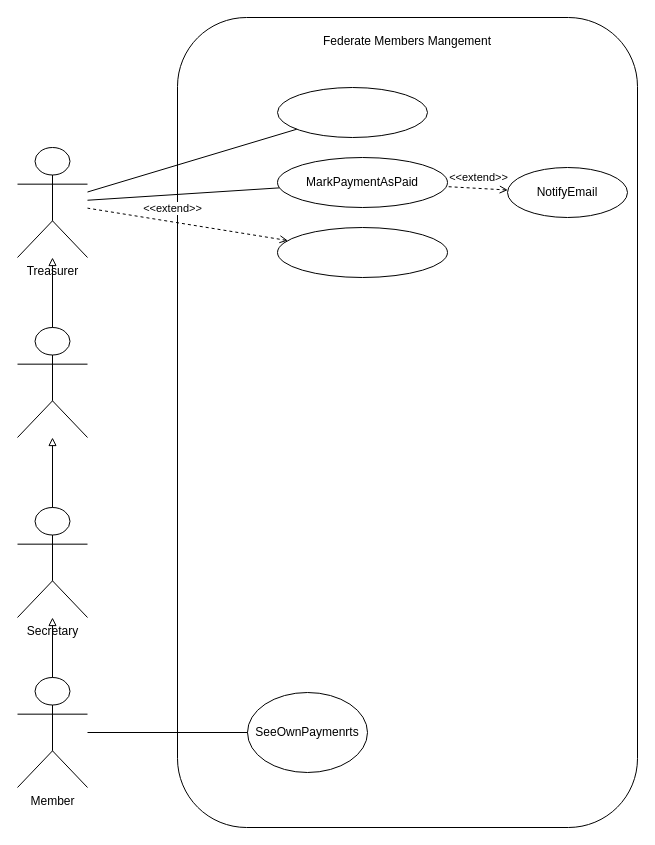
Some shapes in this 655 by 845 pixel diagram are drawn without their labels. The shapes that lost their labels are listed below. From the top down, each one's box as (x1, y1, x2, y2) in pixels, then its label:
(276, 86, 428, 138): AddPaymentToUser
(276, 226, 448, 278): MarkPaymentAsCancelled
(16, 326, 88, 438): President
